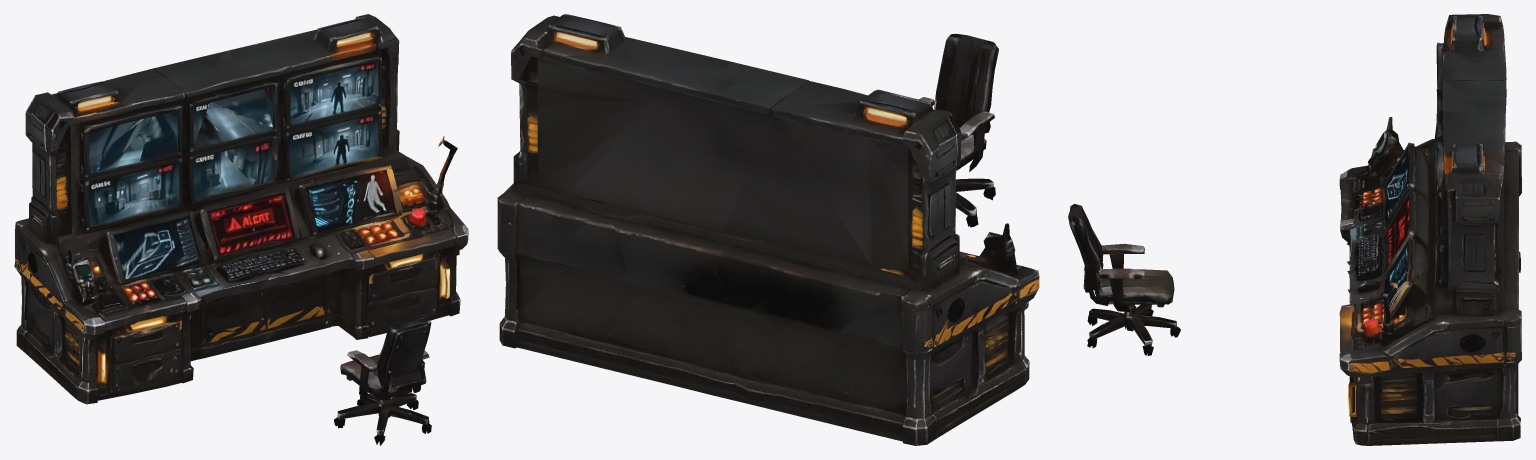
The model's file is console.glb.
3 renders of one model, left to right at view 1: azimuth 30°, elevation 25°; view 2: azimuth 150°, elevation 25°; view 3: azimuth 270°, elevation 25°, orthographic. The views are drawn at different scales.
Parts seen in each view (by area): view 1: model; view 2: model; view 3: model.
Part boxes in pixels (x1=…): model: x1=14, y1=14, x2=468, y2=445; model: x1=497, y1=14, x2=1039, y2=445; model: x1=1068, y1=14, x2=1521, y2=445.
Bounding box in the file's own units: 1.9 × 1.2 × 1.88.
1 material, 1 textured.
